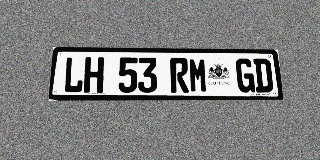3: (138, 57, 157, 93)
5: (118, 57, 138, 93)
D: (253, 58, 273, 92)
G: (235, 58, 255, 92)
H: (83, 57, 104, 93)
L: (63, 57, 84, 93)
M: (189, 58, 208, 93)
R: (170, 58, 189, 93)
